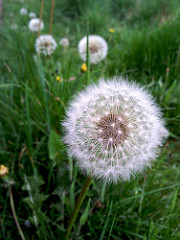dandelion white: (61, 74, 170, 187), (77, 34, 110, 65), (34, 33, 58, 56)
